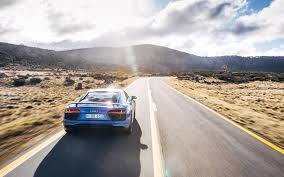car: (62, 87, 140, 135)
